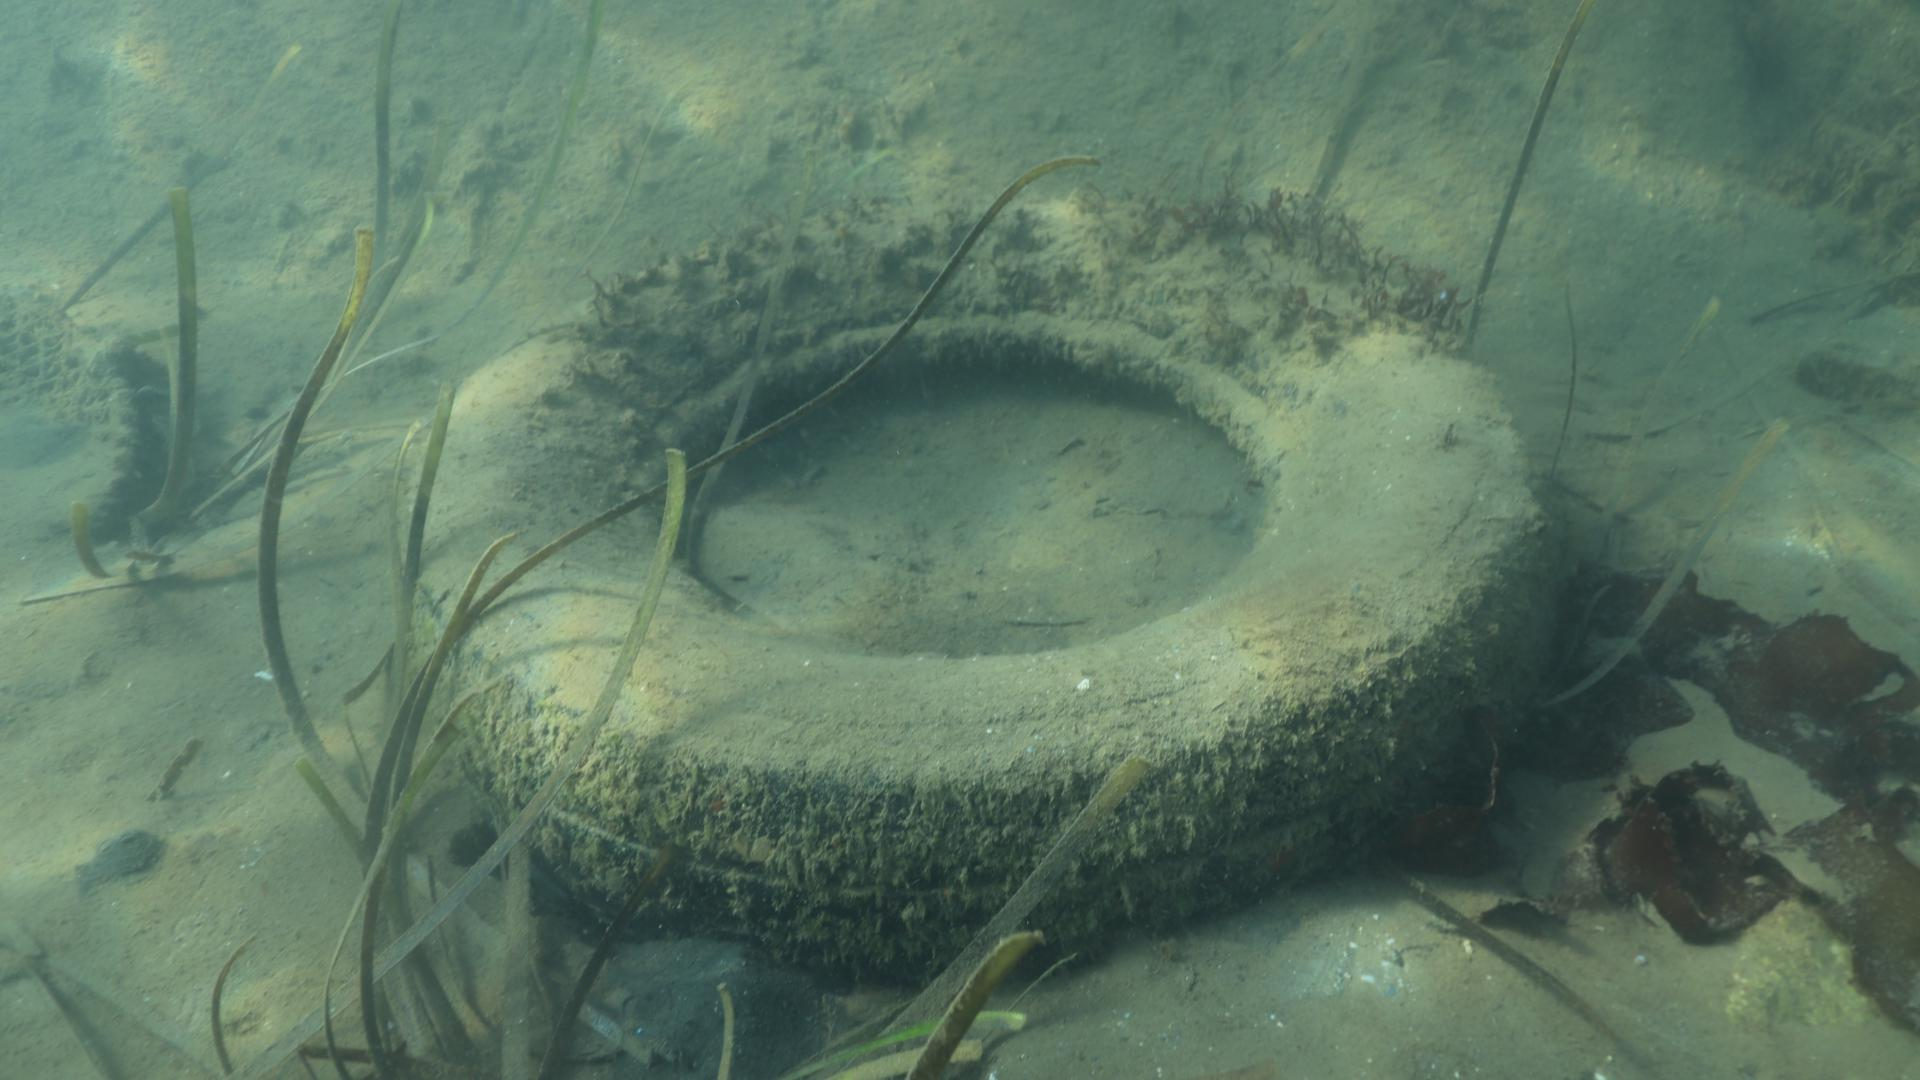tire: (411, 189, 1560, 973)
